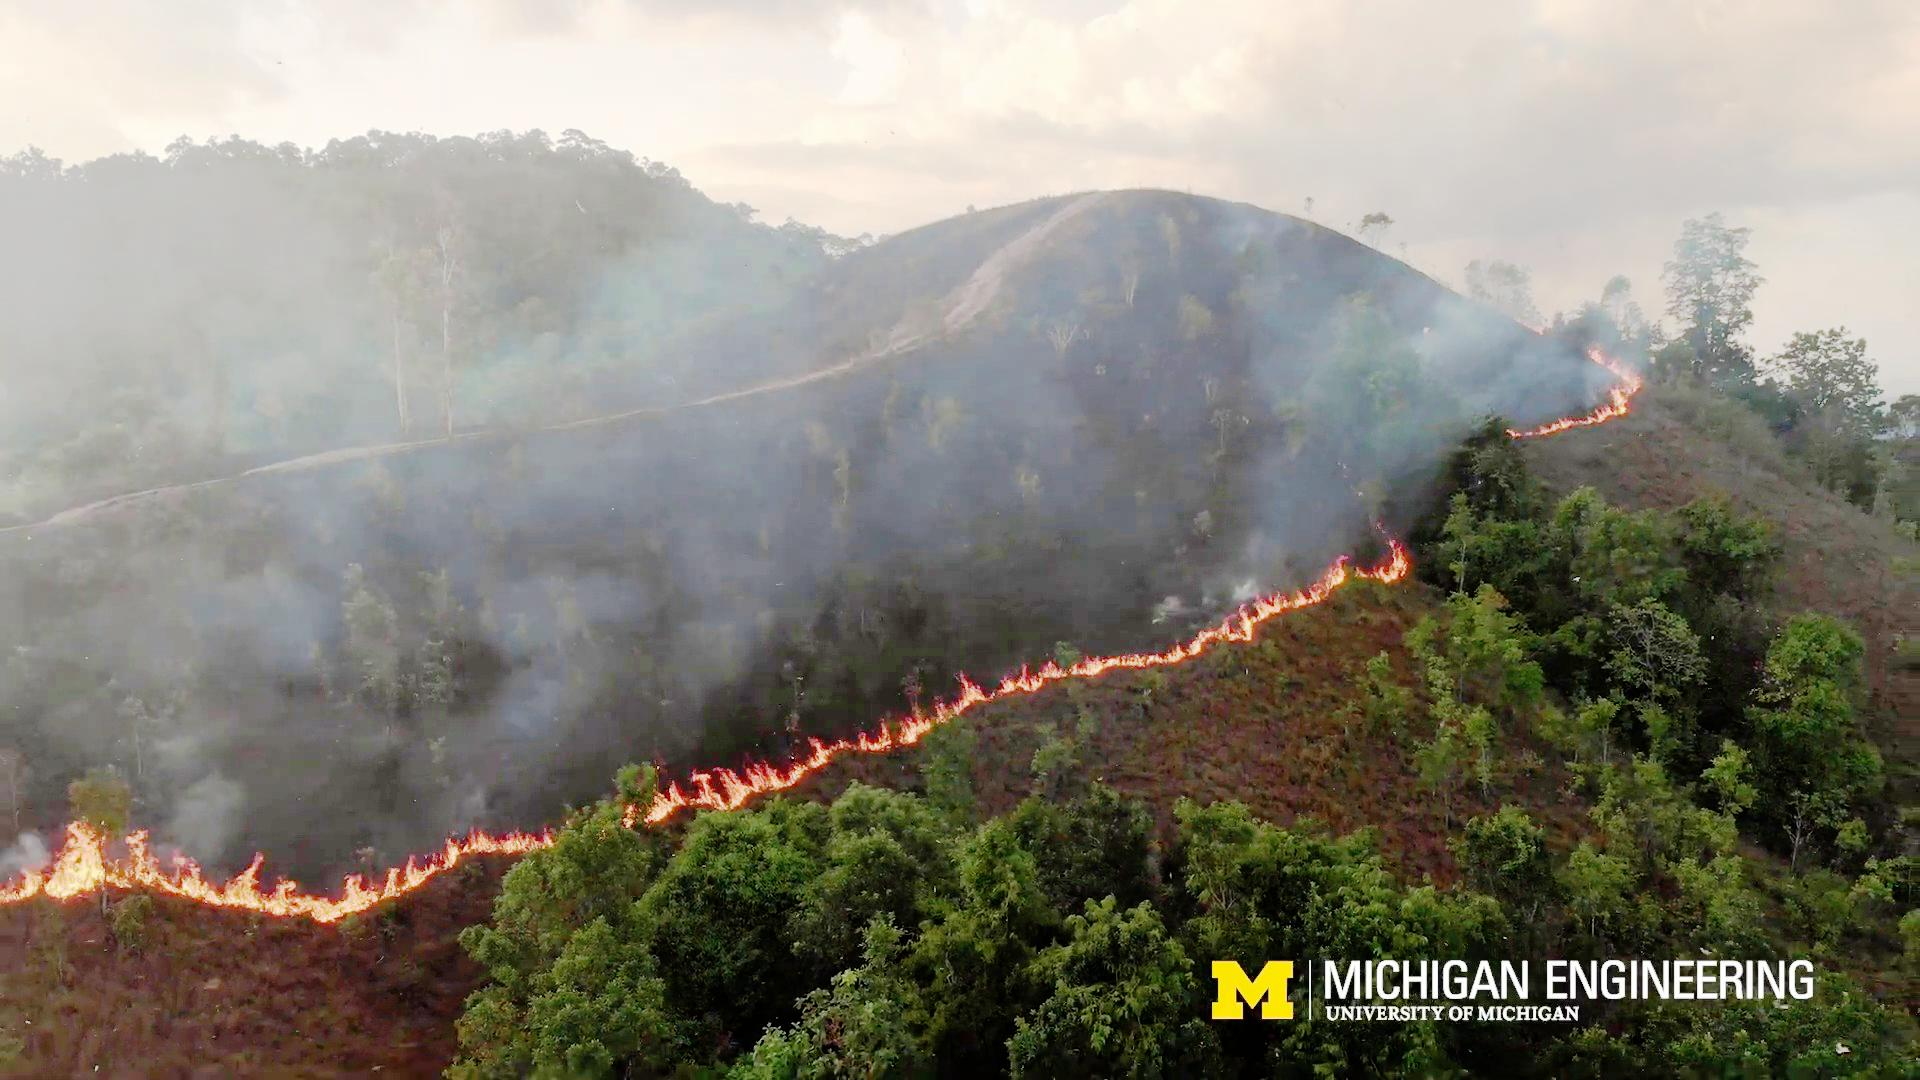fire: (11, 837, 351, 986), (815, 653, 1001, 778), (1026, 608, 1275, 691), (622, 753, 815, 843), (1263, 541, 1453, 625), (1581, 320, 1706, 444)
